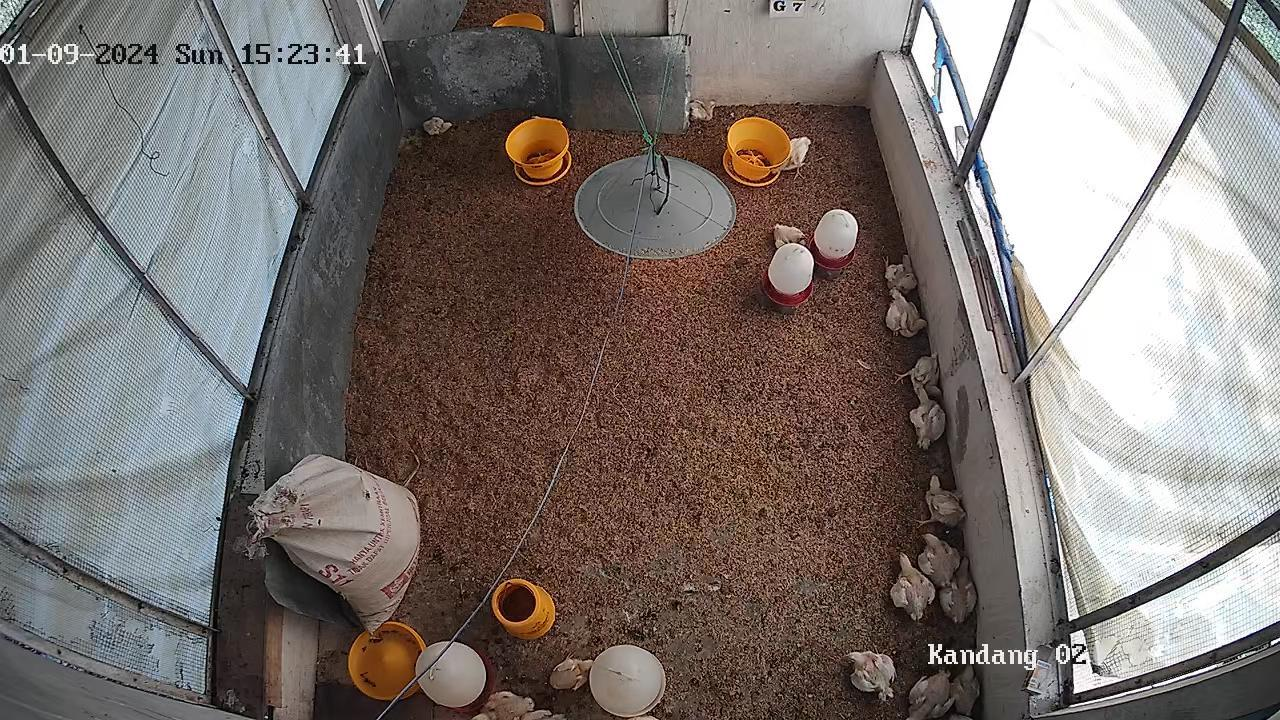chicken: (889, 550, 936, 619), (849, 643, 895, 702), (899, 347, 946, 401), (920, 475, 968, 527), (917, 532, 960, 587), (911, 387, 949, 449), (941, 559, 977, 624), (910, 667, 953, 720), (878, 287, 923, 332), (469, 692, 535, 720), (953, 655, 986, 707), (770, 136, 812, 174), (549, 656, 594, 691), (880, 255, 917, 296), (772, 223, 807, 249), (688, 99, 718, 121), (424, 116, 451, 136), (520, 710, 566, 720)
